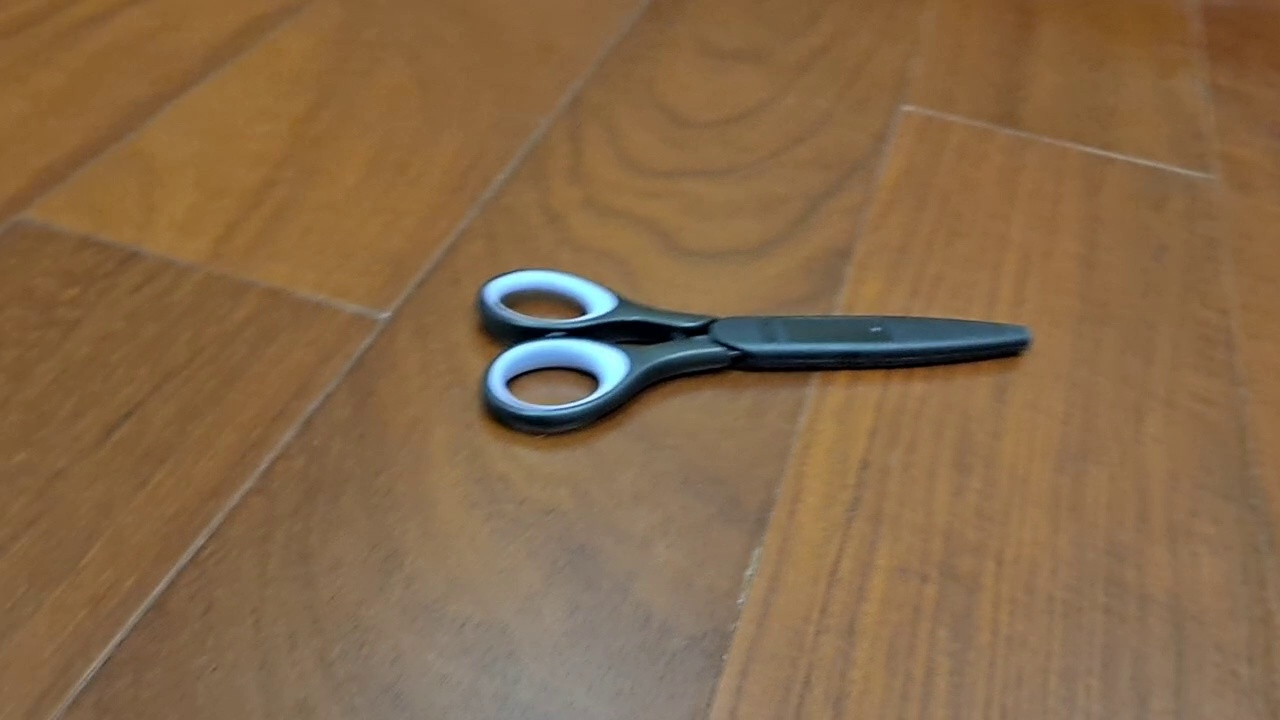scissors: (474, 266, 1034, 437)
